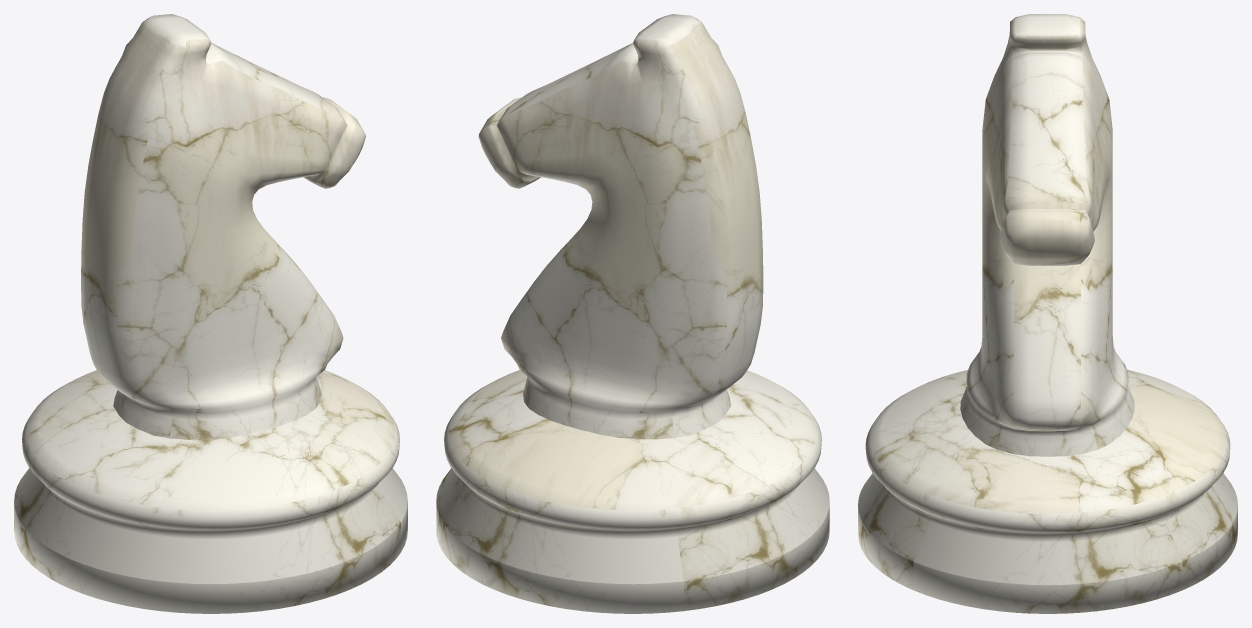
The model's file is outlining.gltf.
3 renders of one model, left to right at view 1: azimuth 30°, elevation 25°; view 2: azimuth 150°, elevation 25°; view 3: azimuth 270°, elevation 25°, orthographic. The views are drawn at different scales.
Parts seen in each view (by area): view 1: KnightWhite2; view 2: KnightWhite2; view 3: KnightWhite2.
Boxes of the visible parts, bbox=[...] form: KnightWhite2: bbox=[14, 14, 407, 613]; KnightWhite2: bbox=[436, 14, 829, 613]; KnightWhite2: bbox=[858, 14, 1237, 613].
Bounding box in the file's own units: 0.0211 × 0.0305 × 0.0211.
Materials: 1 (1 with a texture image).
